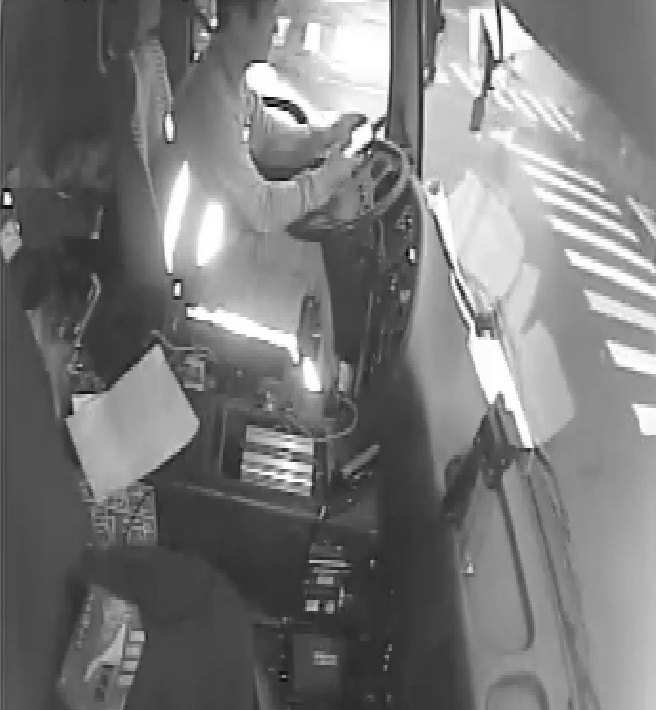cellphone: (334, 118, 377, 162)
